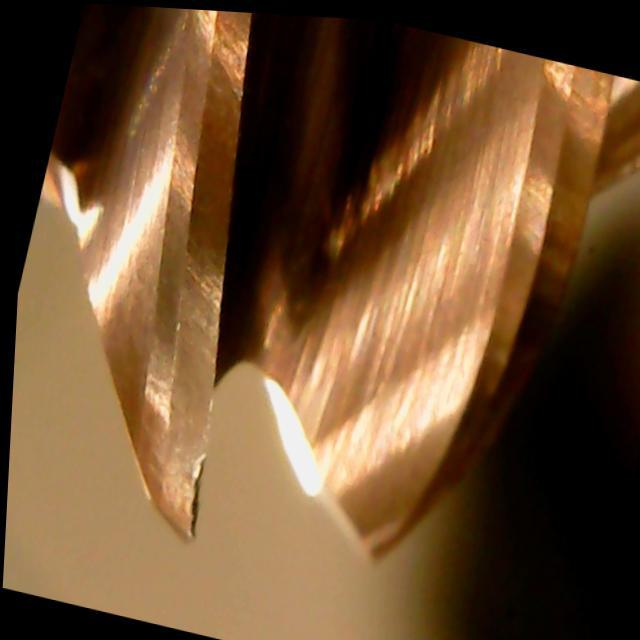Tool-wear-class-1: (104, 286, 251, 548)
